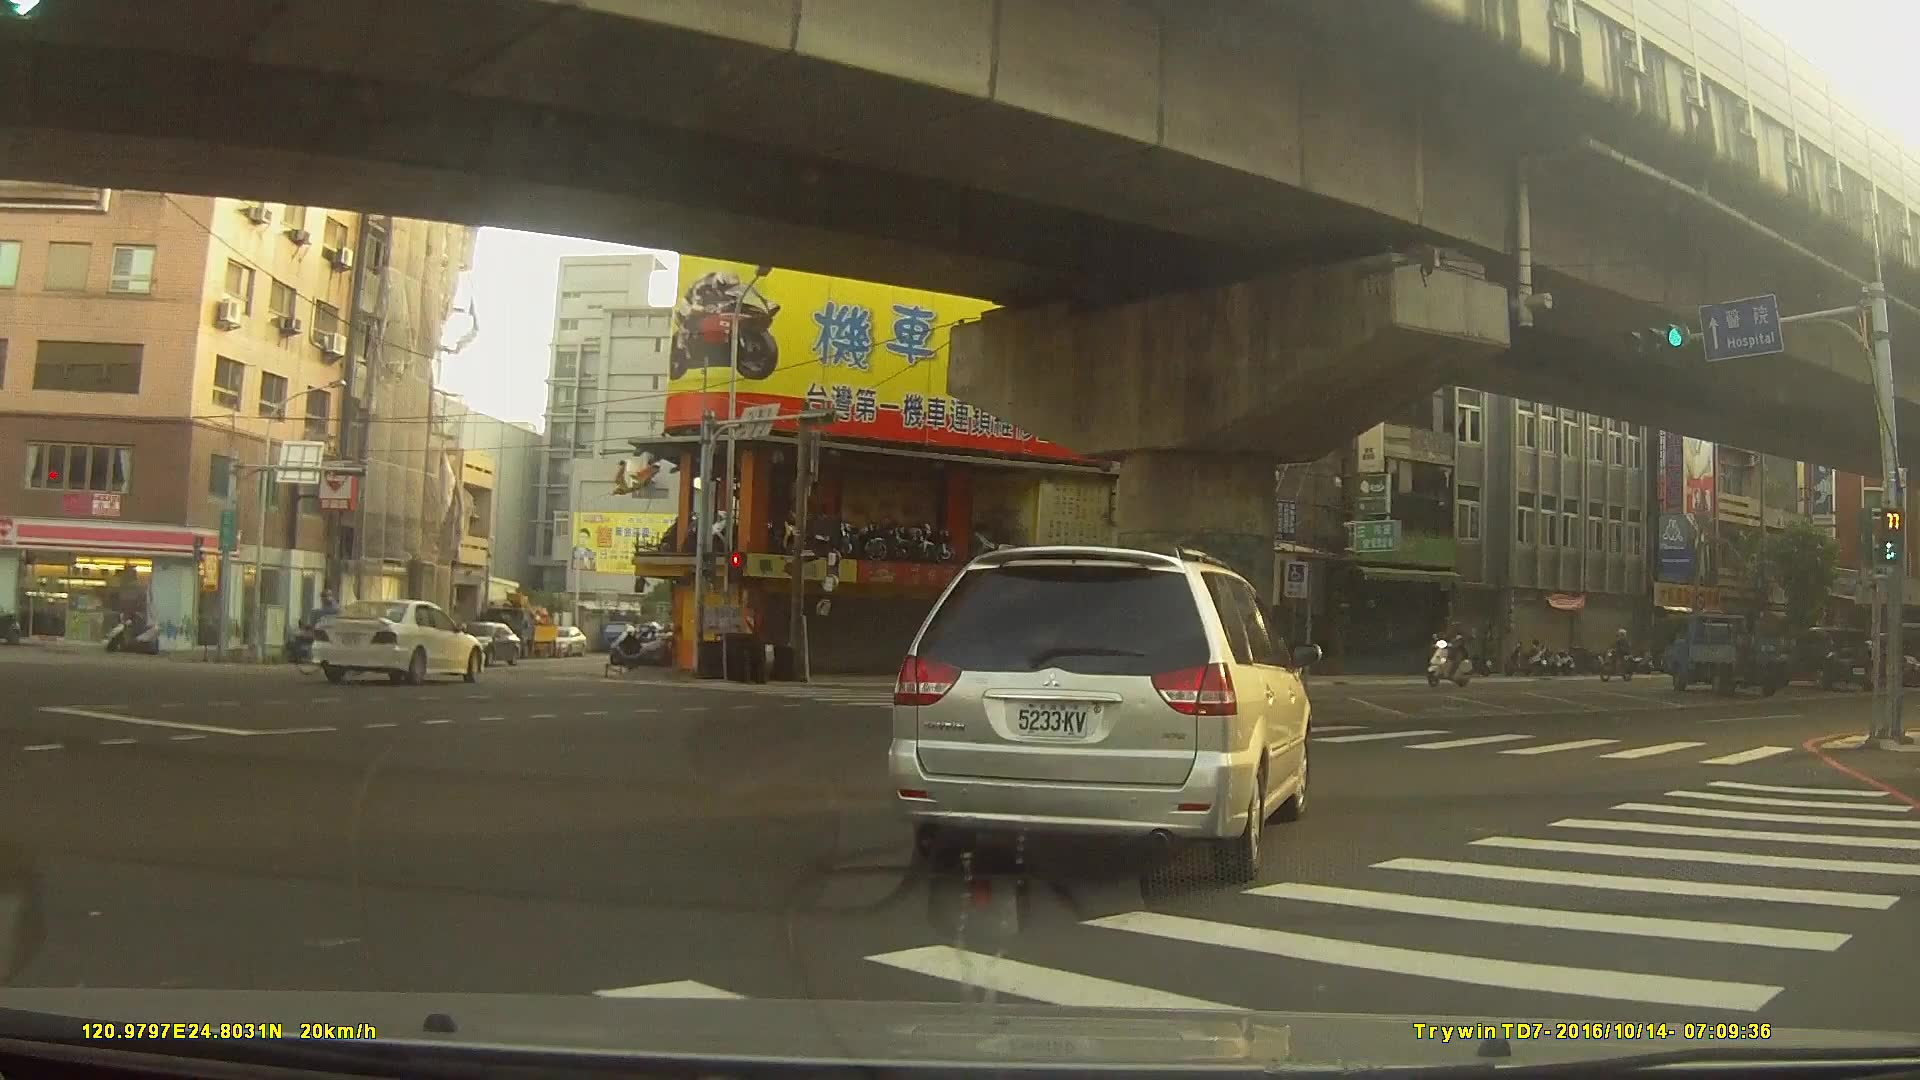rider: (292, 592, 369, 678), (1431, 627, 1478, 691), (1594, 629, 1645, 685)
vehicle: (887, 545, 1314, 880), (311, 597, 487, 683), (1662, 609, 1794, 695), (1776, 623, 1880, 689), (448, 619, 522, 666), (545, 626, 585, 657)
